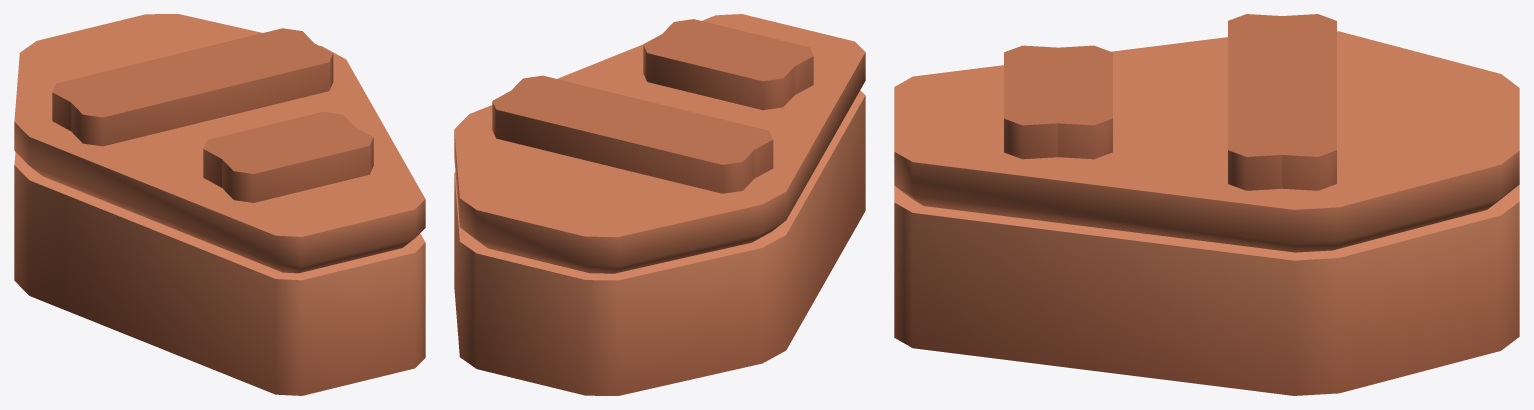
Rendered from coffin.glb.
3 renders of one model, left to right at view 1: azimuth 30°, elevation 25°; view 2: azimuth 150°, elevation 25°; view 3: azimuth 270°, elevation 25°, orthographic. The views are drawn at different scales.
Parts seen in each view (by area): view 1: lid.002, coffin; view 2: lid.002, coffin; view 3: lid.002, coffin.
Boxes of the visible parts, box(x1,y1,x2,y2) form: lid.002: box(14, 14, 425, 273); coffin: box(14, 152, 425, 395); lid.002: box(454, 14, 865, 273); coffin: box(454, 90, 865, 395); lid.002: box(894, 14, 1519, 252); coffin: box(894, 185, 1519, 395).
Size of the model in its own units: 11.48 by 6.5 by 16.76.
Materials: 1 (1 with a texture image).
